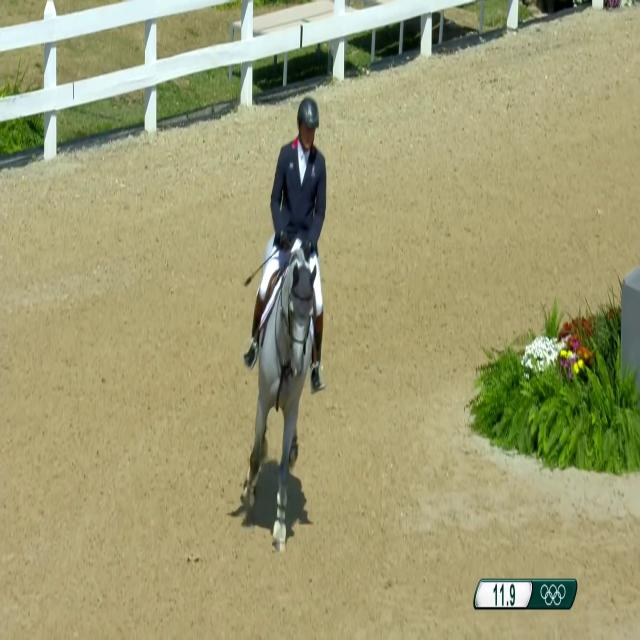Horse Rider: (262, 76, 335, 304)
Horse Running: (230, 223, 345, 555)
